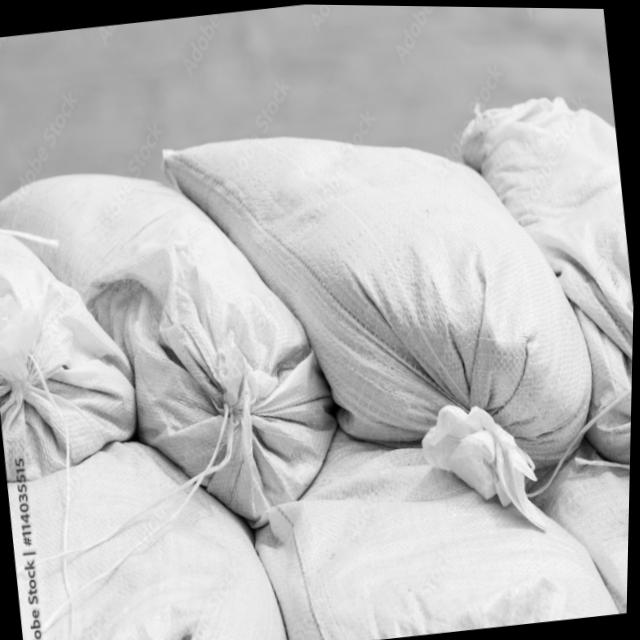sack: (151, 86, 612, 541), (0, 145, 351, 551), (242, 396, 626, 640), (450, 85, 639, 481), (6, 419, 299, 640), (520, 427, 633, 621)
